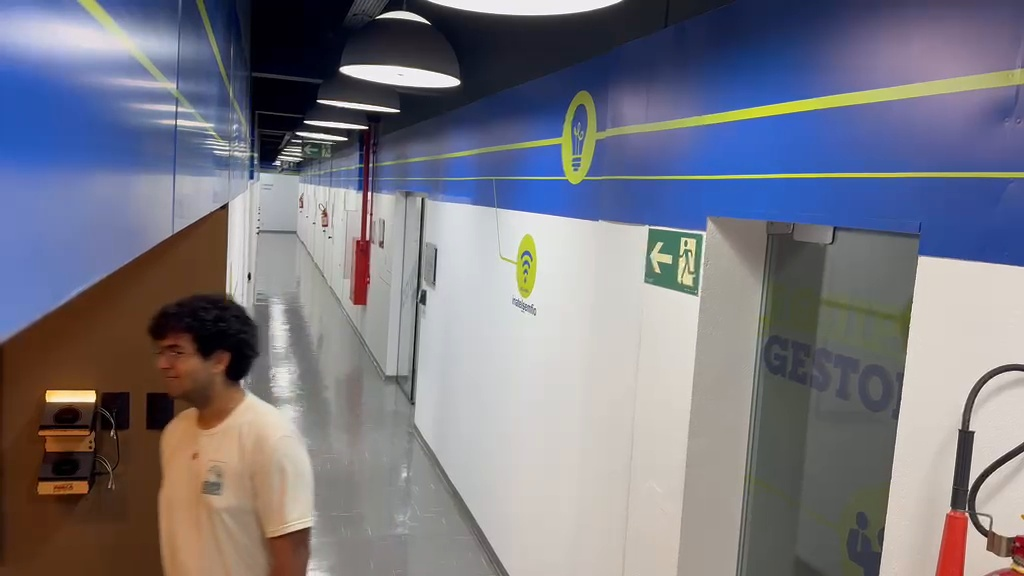person: (149, 293, 315, 572)
